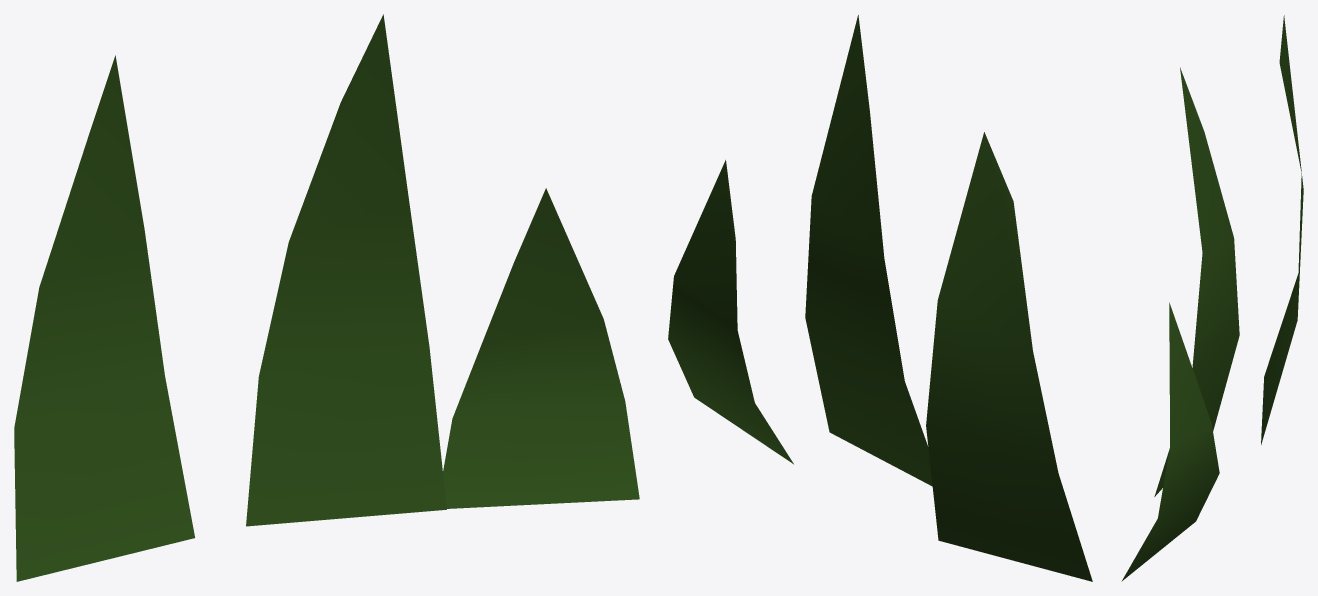
The model's file is cesped8.glb.
The picture shows the model from 3 angles, left to right: view 1: azimuth 30°, elevation 25°; view 2: azimuth 150°, elevation 25°; view 3: azimuth 270°, elevation 25°; orthographic projection. The views are drawn at different scales.
Parts seen in each view (by area): view 1: cesped 8; view 2: cesped 8; view 3: cesped 8.
Part boxes in pixels (x1,y1,x2,y2): cesped 8: (14, 14, 639, 581); cesped 8: (668, 15, 1092, 581); cesped 8: (1121, 15, 1303, 581).
Size of the model in its own units: 0.3434 by 0.3182 by 0.1201.
